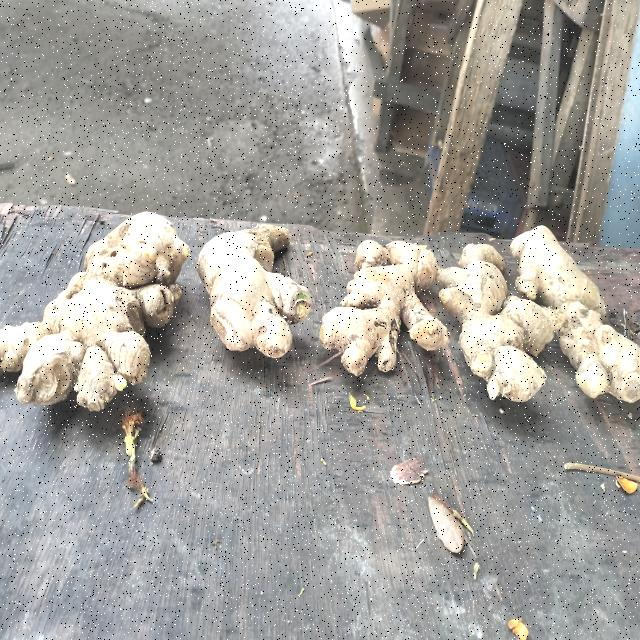ginger: (0, 172, 188, 433), (524, 197, 634, 446), (206, 174, 312, 380), (325, 221, 447, 379), (448, 218, 531, 410)
